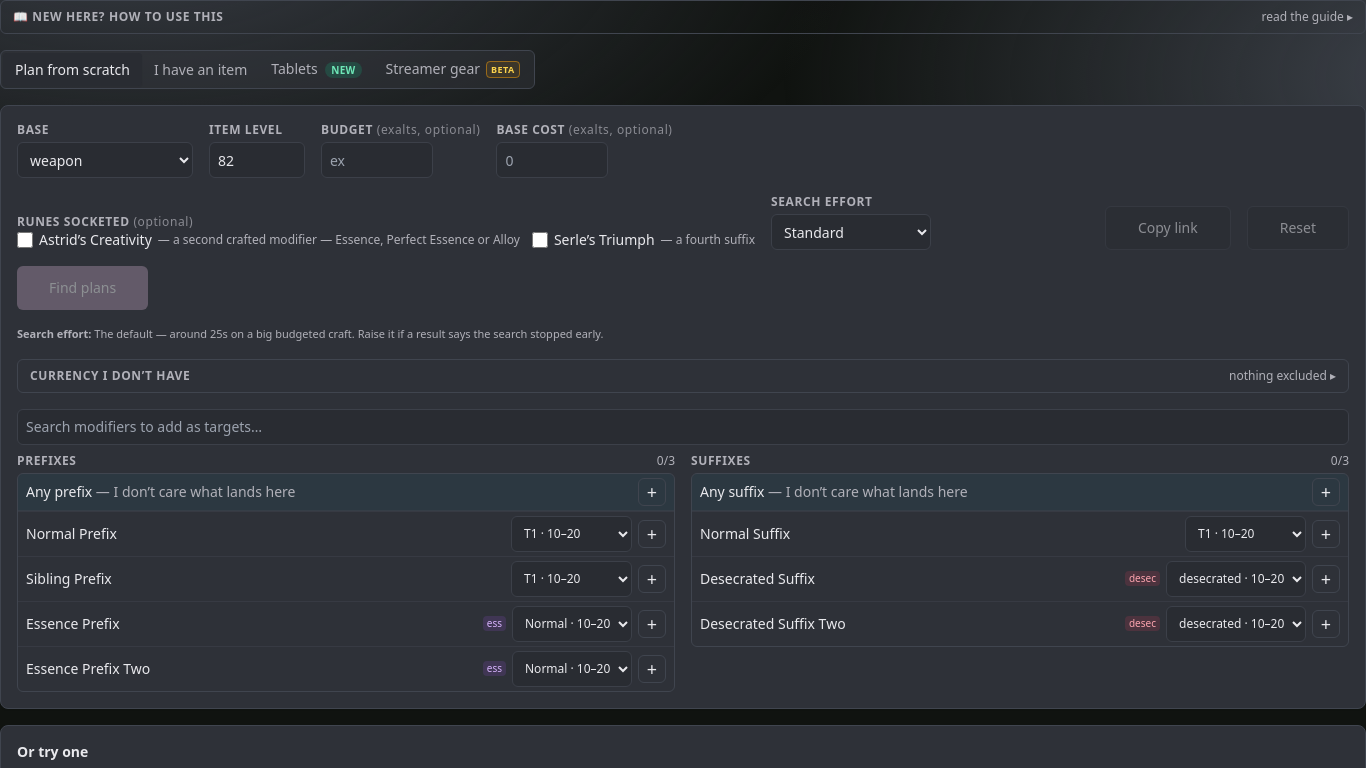
it: EngineLab — target picker rules › adds a mod to the target and updates the count
Expected: the field with placeholder "Search modifiers to add as targets…" is shown, [17,409,1349,445]
Click the button "+" in the row of "Normal Prefix".
click(652, 534)  # box [638,520,666,548]
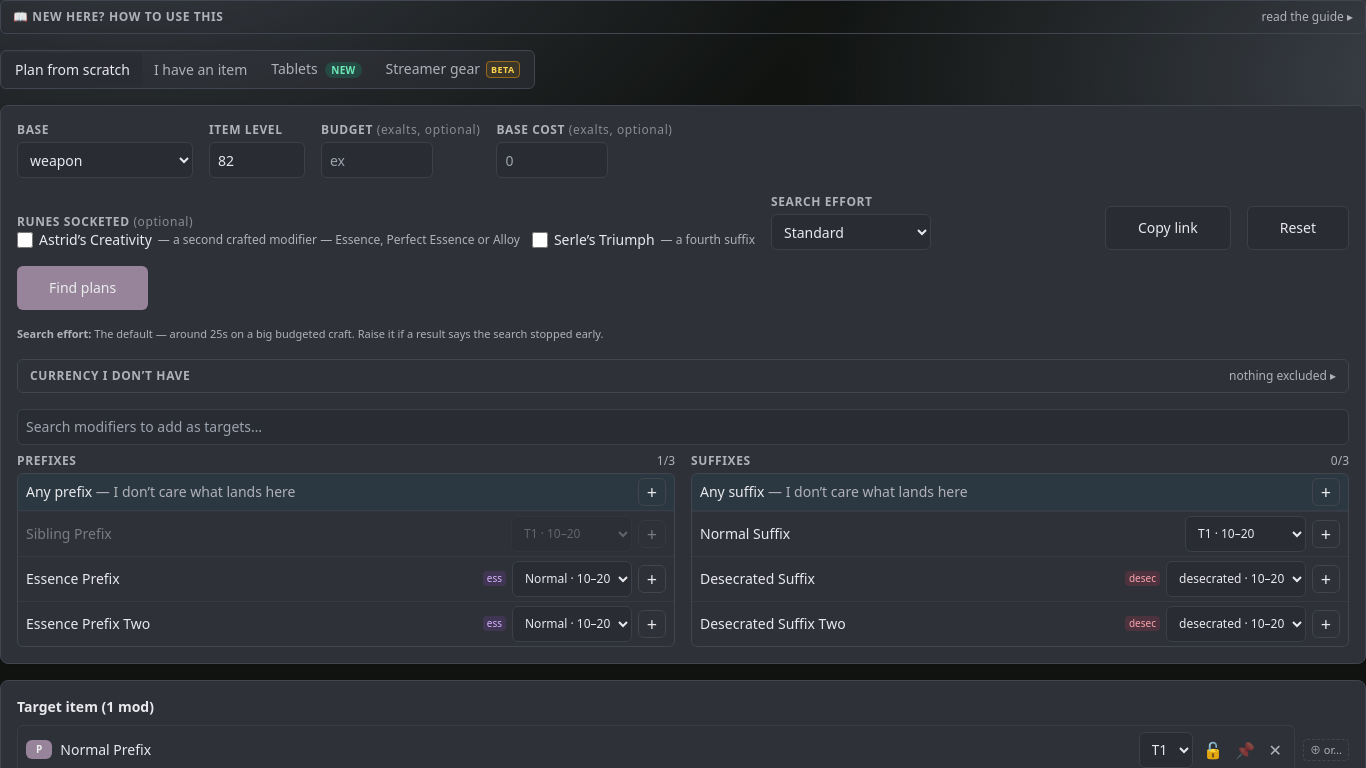
Expected: the heading "Target item (1 mod)" is shown, [17,697,154,717]
